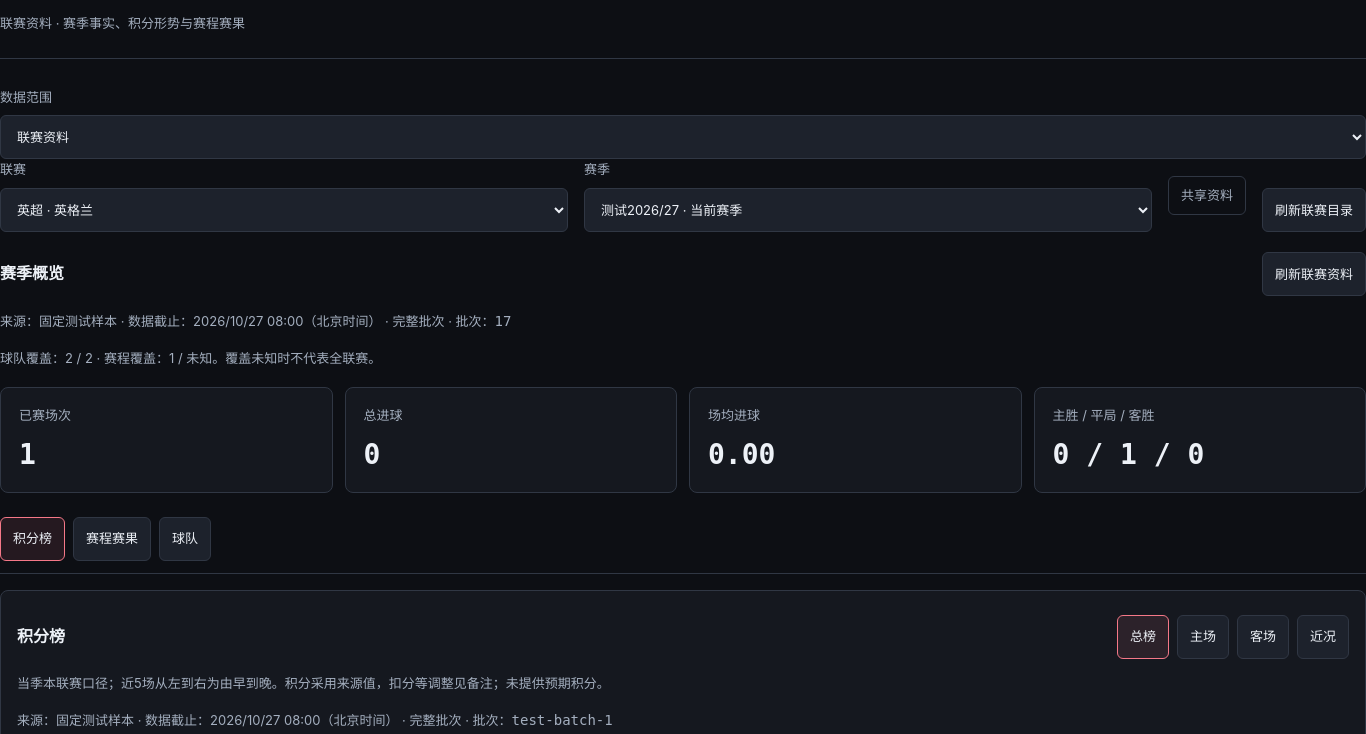
Scenario: LeagueCenter integration (isolated fixed samples only) › uses the shared backend by default and pins fixture reads to the season revision
The width and height of the screenshot is (1366, 734).
Click the button "赛程赛果" at point(112, 539), box [73, 517, 151, 561]
(page scrolled)
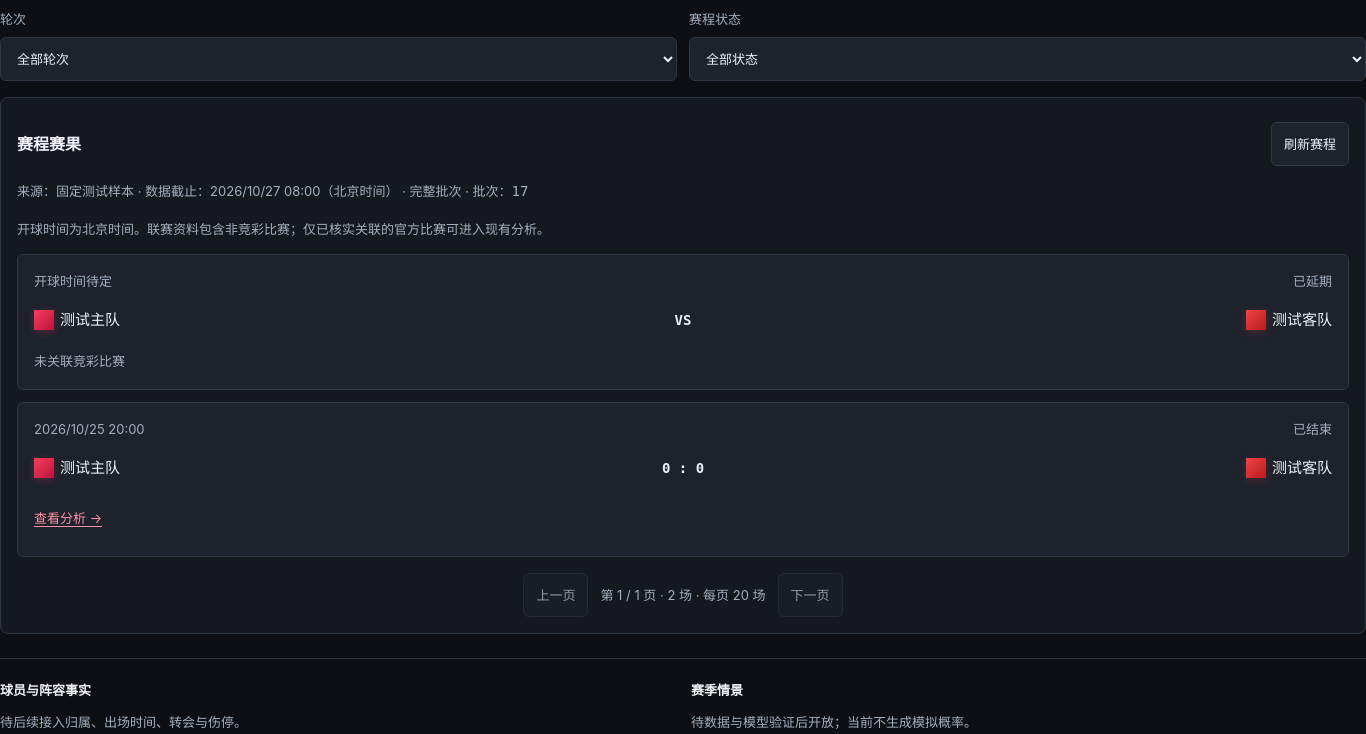
Expected: the text "0 : 0" is shown, [662, 457, 704, 479]
